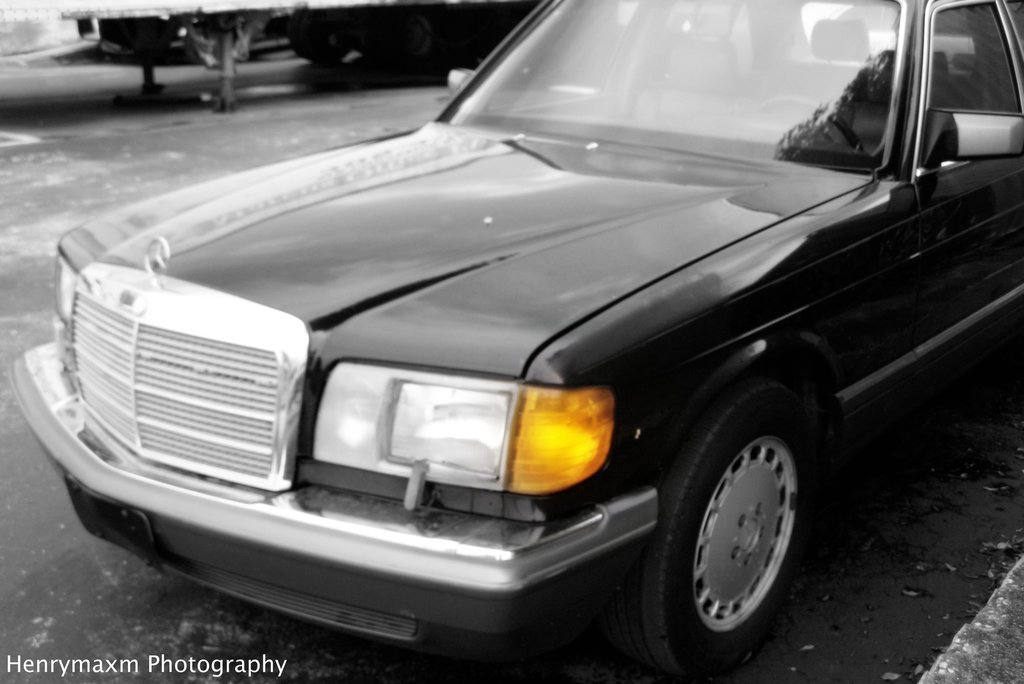car: (7, 1, 1024, 677)
